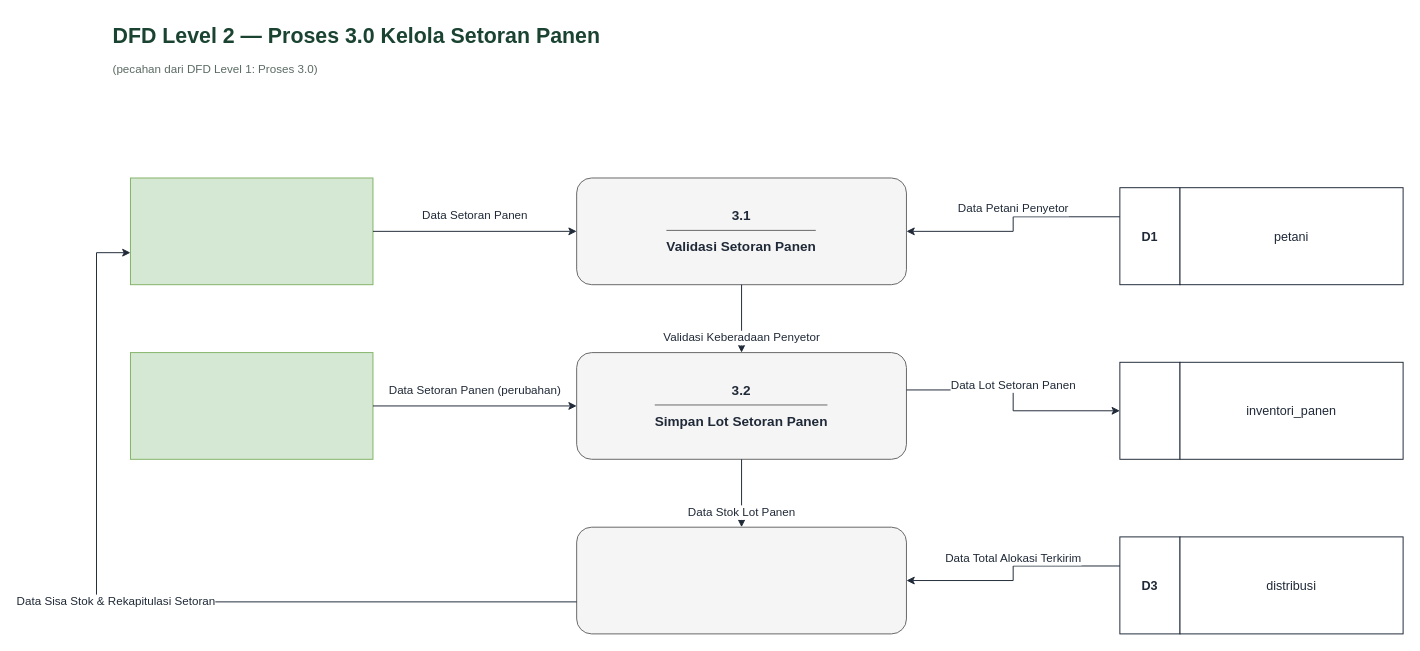
The diagram is 1420 pixels wide and 651 high, and some of its shapes have lost their labels. Here are the shapes that lost their labels. From the top down, the box of each, then its label:
(129, 177, 373, 285): Admin Gudang (ACT-01) peran: admin
(129, 352, 373, 459): Operator Gudang (ACT-03) peran: operator
(1119, 361, 1180, 459): D2
(576, 526, 906, 634): 3.3 Hitung & Tampilkan Sisa Stok
